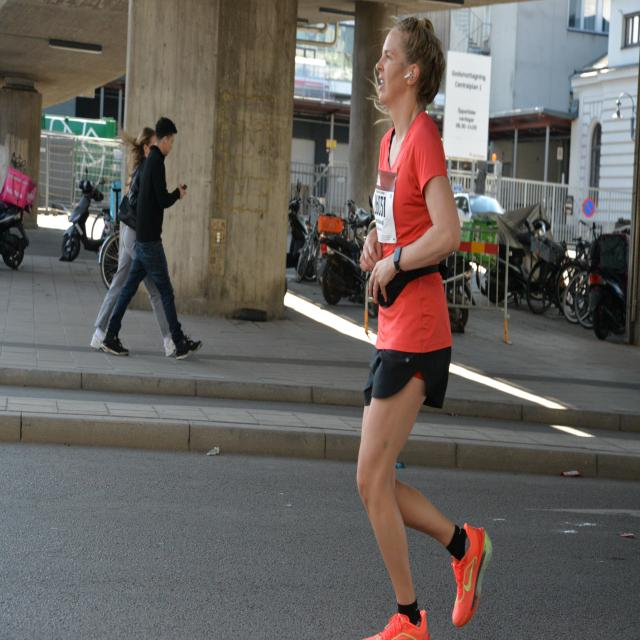runner-detect: (346, 13, 500, 640)
